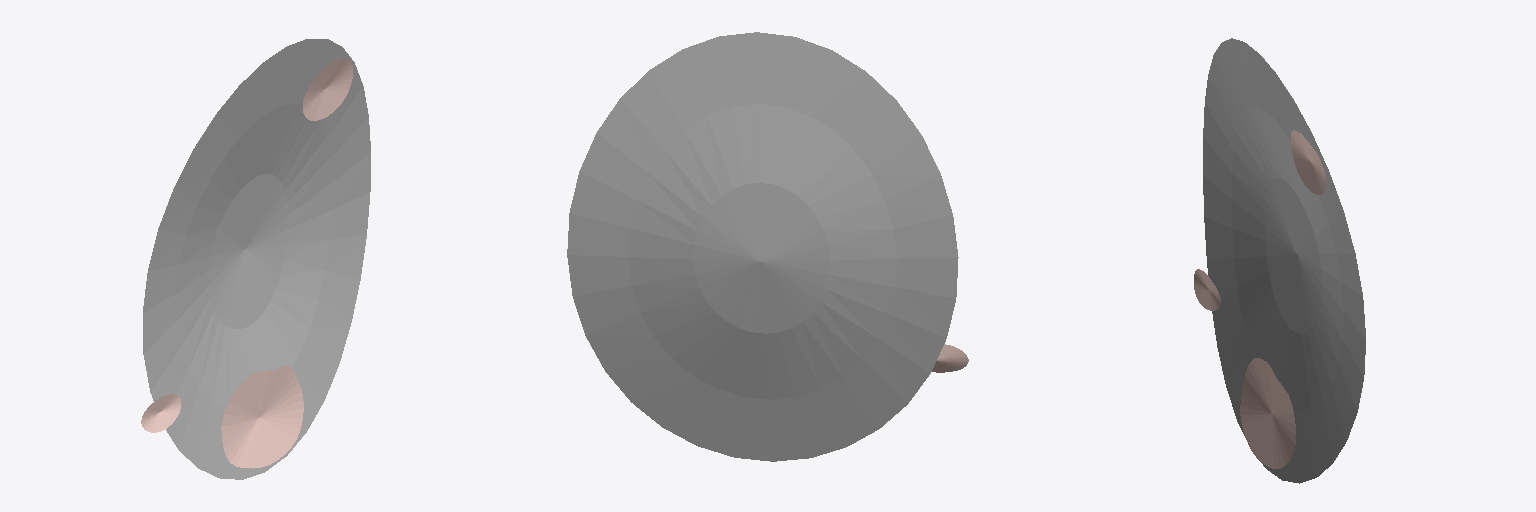
Rendered from RemEyeLeftOriginFixed.obj.
3 views of the same model, side by side, from view 1: azimuth 30°, elevation 25°; view 2: azimuth 150°, elevation 25°; view 3: azimuth 270°, elevation 25° (orthographic).
Parts seen in each view (by area): view 1: Circle.005; view 2: Circle.005; view 3: Circle.005.
Part boxes in pixels (bbox=[...]): Circle.005: bbox=[141, 39, 370, 479]; Circle.005: bbox=[567, 32, 968, 461]; Circle.005: bbox=[1194, 38, 1365, 483].
Bounding box in the file's own units: 0.1454 × 0.1864 × 0.0689.